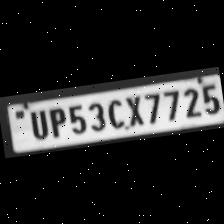2: (176, 83, 202, 119)
3: (84, 97, 106, 132)
5: (196, 78, 224, 116), (64, 100, 88, 136)
7: (158, 86, 182, 122), (140, 88, 163, 125)
C: (102, 94, 126, 129)
P: (45, 104, 68, 138)
U: (24, 106, 50, 140)
X: (122, 92, 146, 128)
